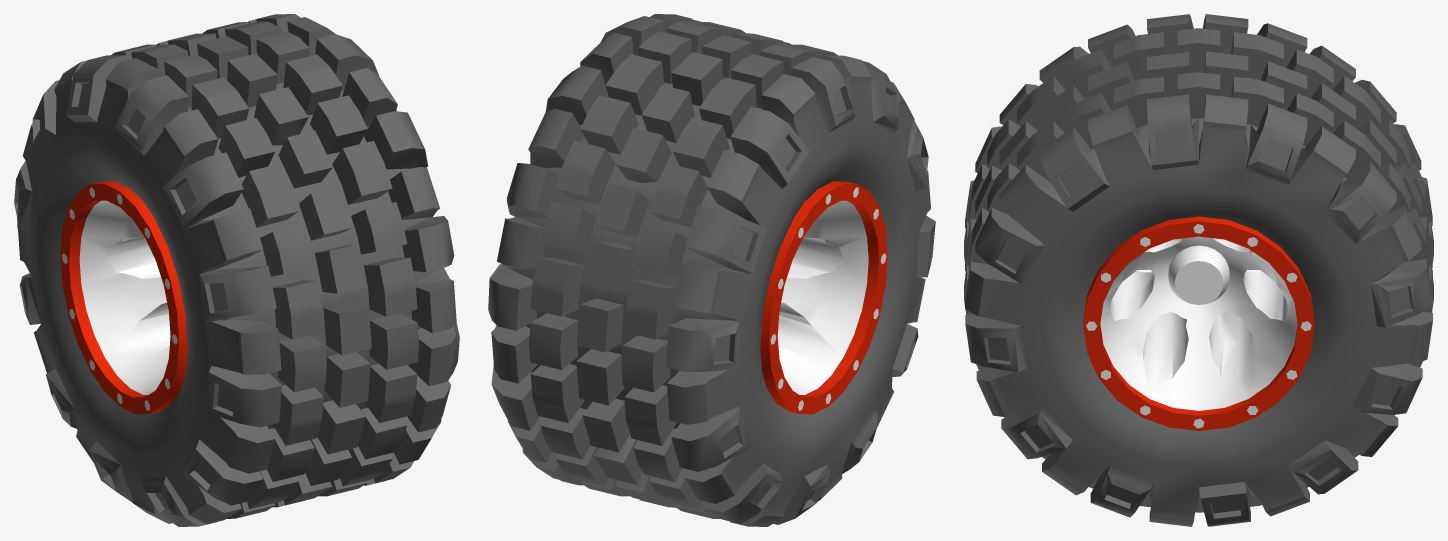
The model's file is buggy-classic-wheel.glb.
3 views of the same model, side by side, from view 1: azimuth 30°, elevation 25°; view 2: azimuth 150°, elevation 25°; view 3: azimuth 270°, elevation 25° (orthographic). The views are drawn at different scales.
Parts seen in each view (by area): view 1: Rubber, Rim, Beadlock; view 2: Rubber, Rim, Beadlock; view 3: Rubber, Rim, Beadlock.
Boxes of the visible parts, box(x1,y1,x2,y2) form: Rubber: box(14, 14, 459, 526); Rim: box(62, 187, 177, 410); Beadlock: box(60, 181, 187, 413); Rubber: box(488, 14, 935, 526); Rim: box(770, 187, 886, 411); Beadlock: box(760, 181, 887, 414); Rubber: box(964, 14, 1433, 526); Rim: box(1086, 224, 1311, 428); Beadlock: box(1083, 216, 1314, 430).
Bounding box in the file's own units: 0.5932 × 1 × 1.
